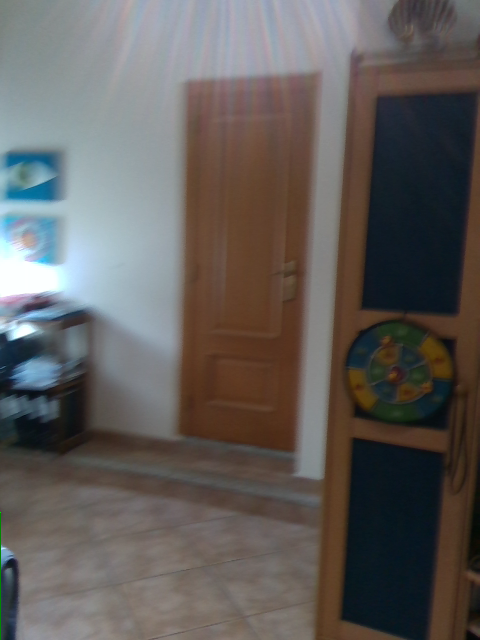closed: (172, 70, 321, 459)
